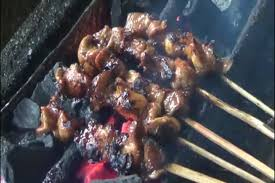sate: (29, 10, 217, 175)
